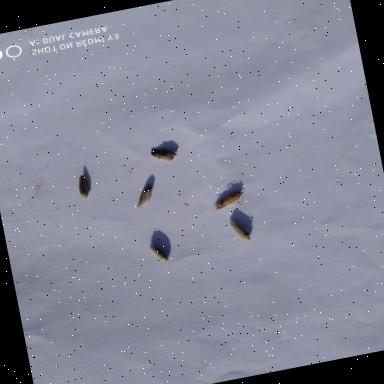pbw: (204, 180, 256, 214), (128, 178, 170, 213), (66, 164, 99, 204), (222, 212, 256, 248), (144, 140, 182, 170), (140, 238, 174, 269)
